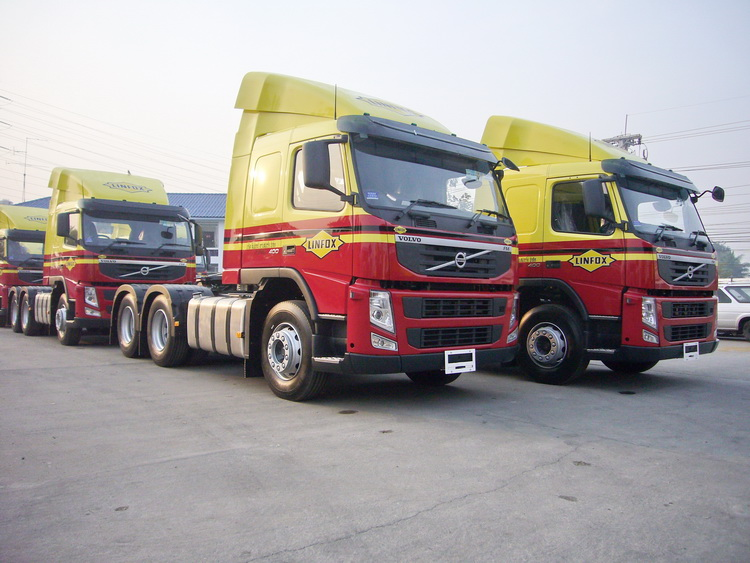truck: (226, 113, 515, 407), (524, 116, 723, 383)
